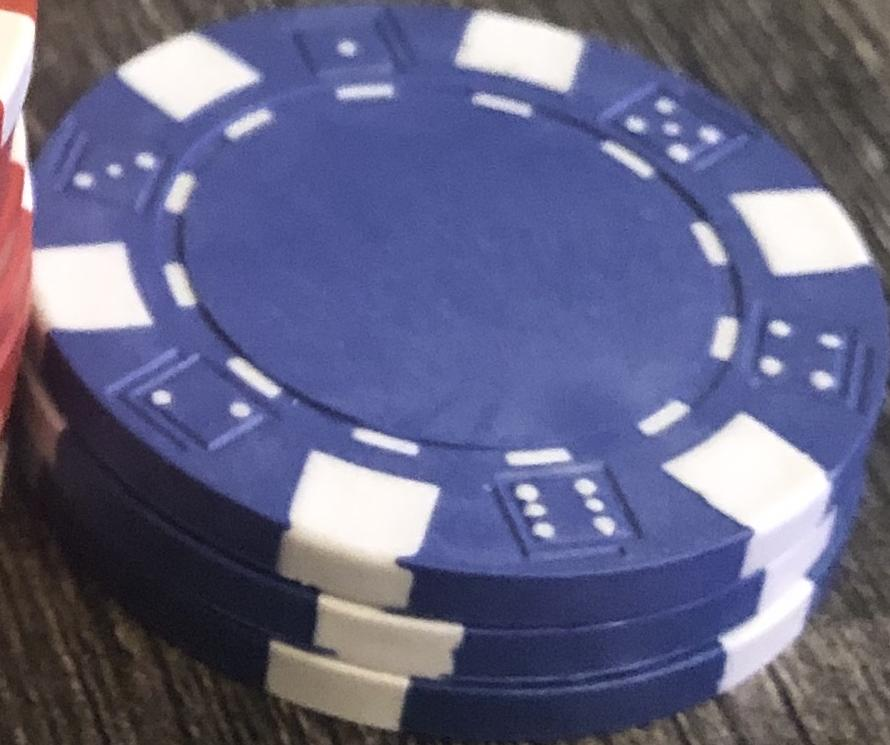Chip: (2, 2, 890, 745)
